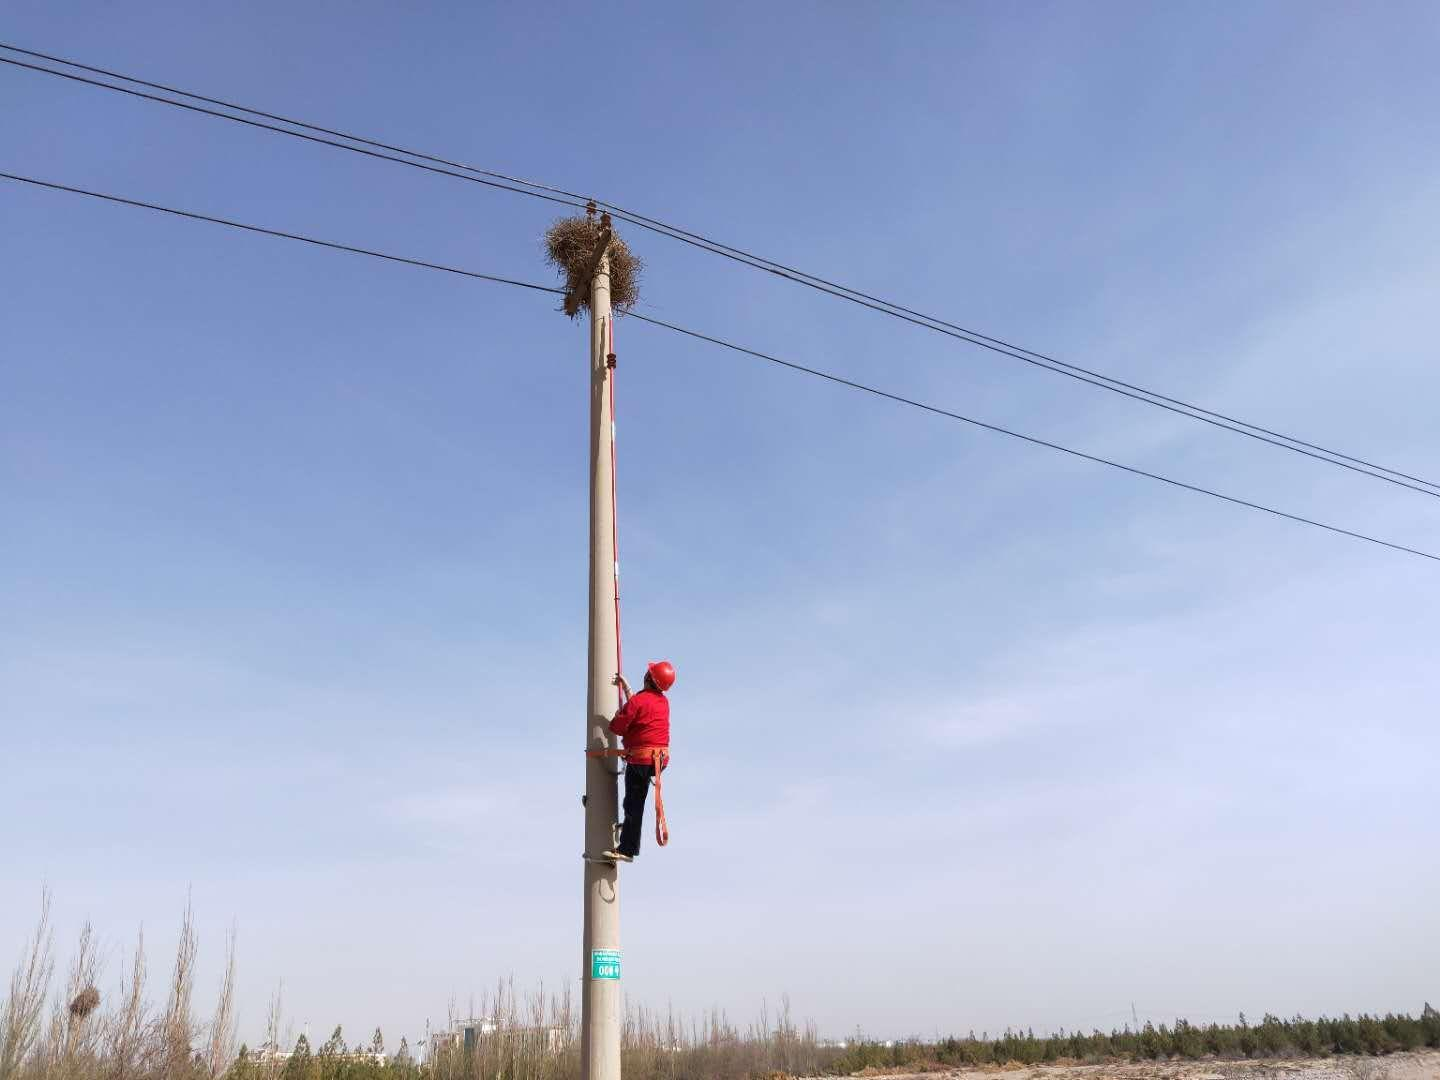bird-nest: (552, 217, 642, 312)
